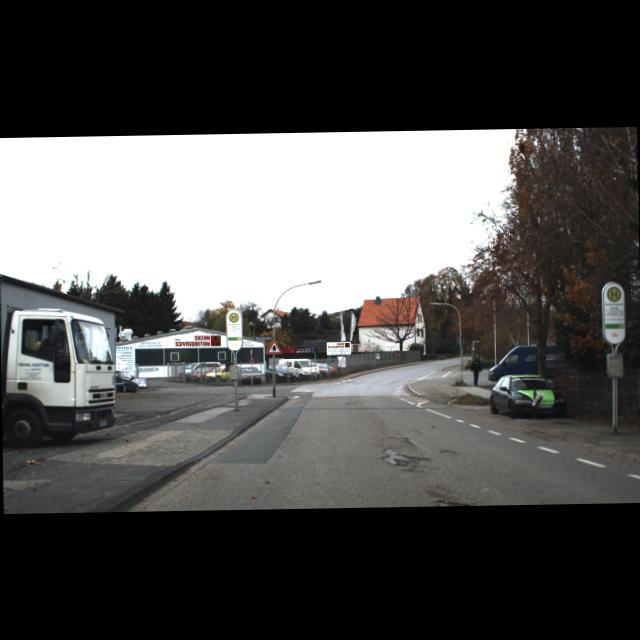danger: (266, 340, 283, 354)
